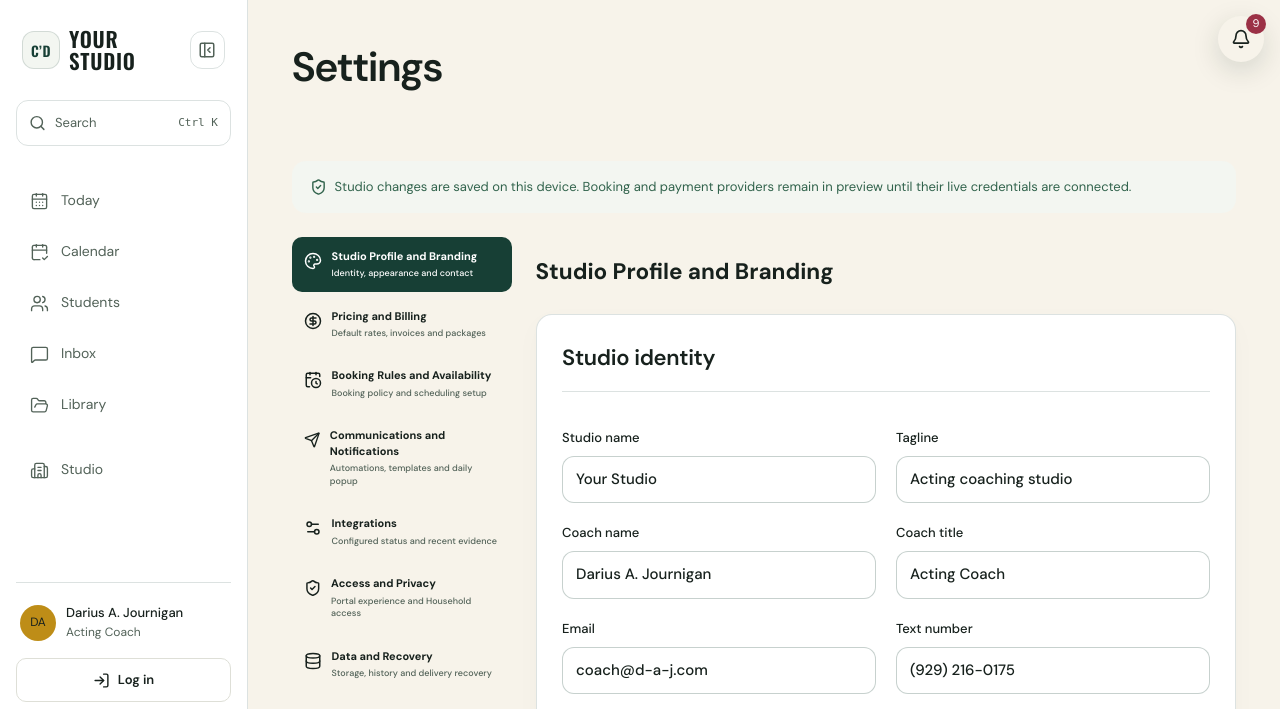
Test: interactive booking flows › reports missing live integrations truthfully
This screenshot has width=1280, height=709.
Click the button "Integrations Configured status and recent evidence" at x=402, y=532, box 292,504 -> 512,559
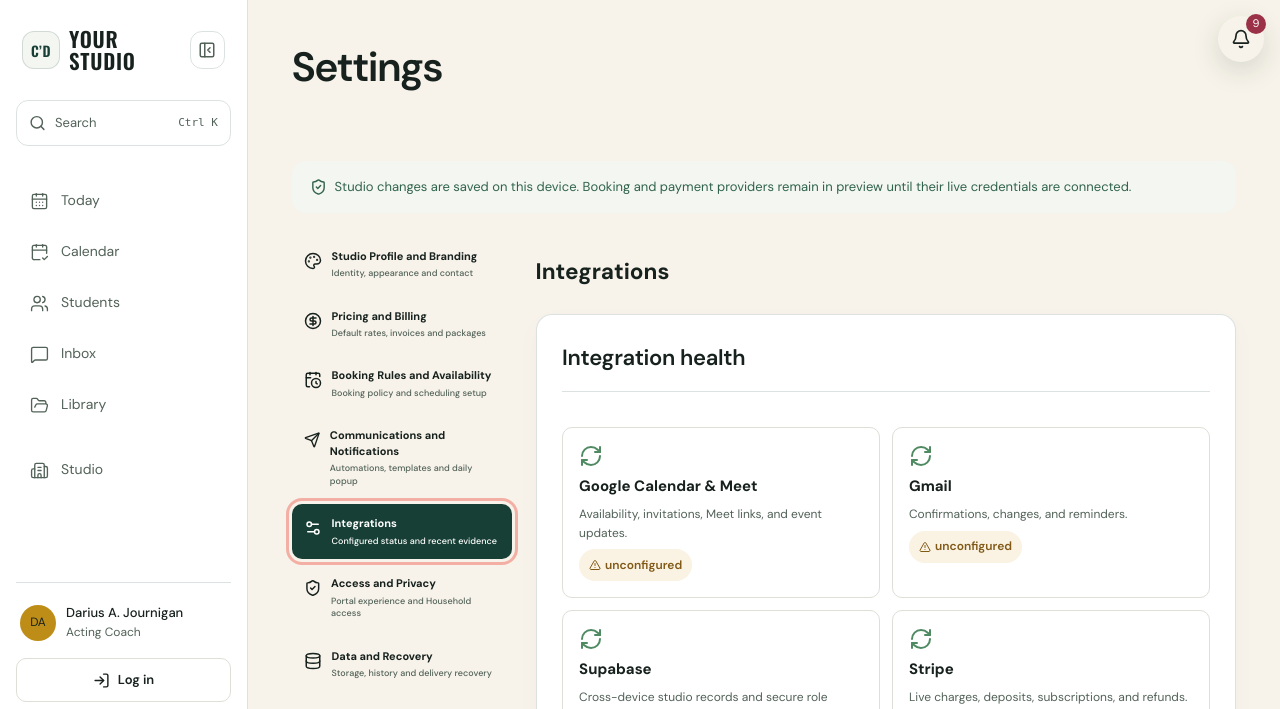
Result: the heading "Integration health" is shown at 562,341 -> 745,375
Result: the text "unconfigured" below "Google Calendar & Meet" is shown at 605,557 -> 682,573
